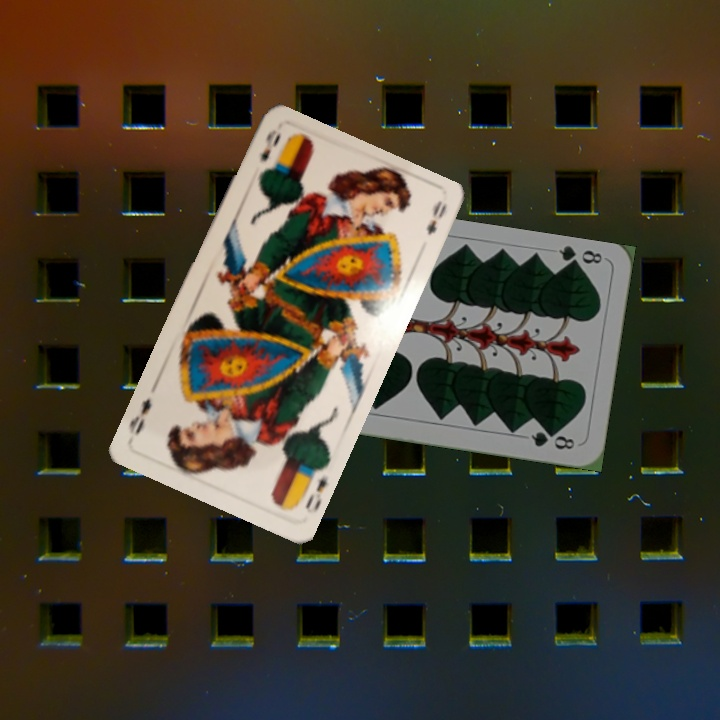EO: (296, 464, 331, 514), (256, 125, 283, 164)
G8: (555, 242, 605, 273)
